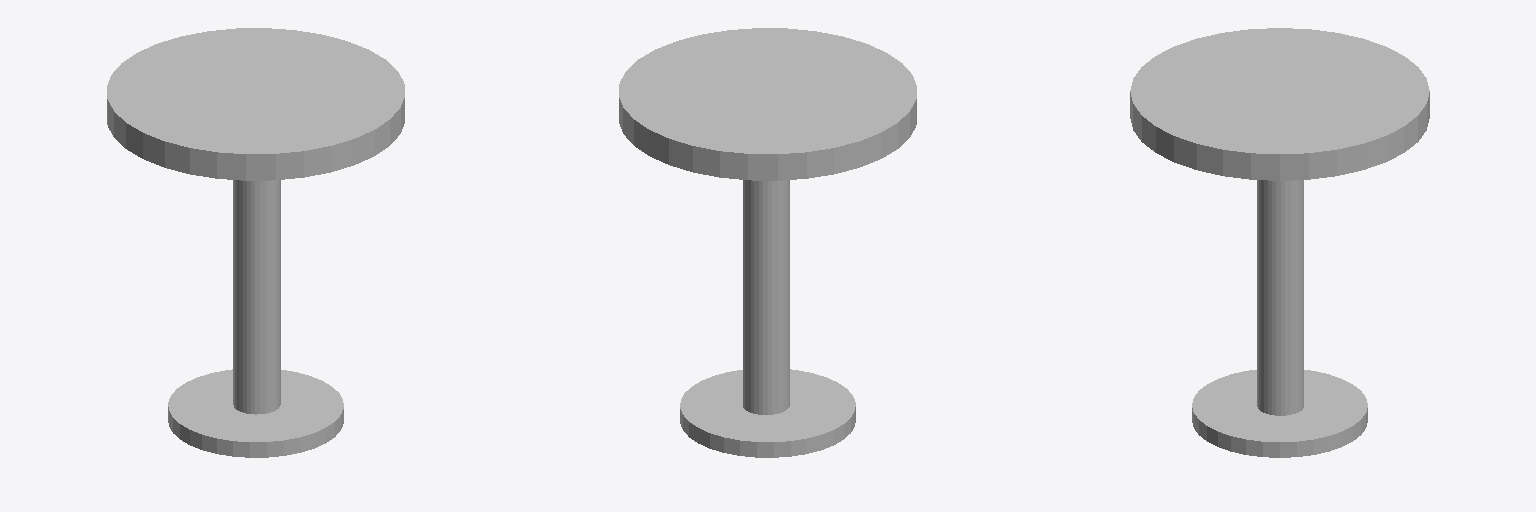
Rendered from table.obj.
3 renders of one model, left to right at view 1: azimuth 30°, elevation 25°; view 2: azimuth 150°, elevation 25°; view 3: azimuth 270°, elevation 25°, orthographic.
Parts seen in each view (by area): view 1: Cylinder.001, Cylinder, Cylinder.002_Cylinder.003; view 2: Cylinder.001, Cylinder, Cylinder.002_Cylinder.003; view 3: Cylinder.001, Cylinder, Cylinder.002_Cylinder.003.
Part boxes in pixels (left/top/right/bottom): Cylinder.001: left=107, top=28, right=404, bottom=180; Cylinder: left=233, top=180, right=280, bottom=414; Cylinder.002_Cylinder.003: left=168, top=369, right=343, bottom=457; Cylinder.001: left=619, top=28, right=916, bottom=180; Cylinder: left=743, top=180, right=789, bottom=414; Cylinder.002_Cylinder.003: left=680, top=369, right=855, bottom=457; Cylinder.001: left=1130, top=28, right=1429, bottom=180; Cylinder: left=1257, top=180, right=1303, bottom=415; Cylinder.002_Cylinder.003: left=1192, top=370, right=1367, bottom=457.
Size of the model in its own units: 2 by 2.43 by 2.